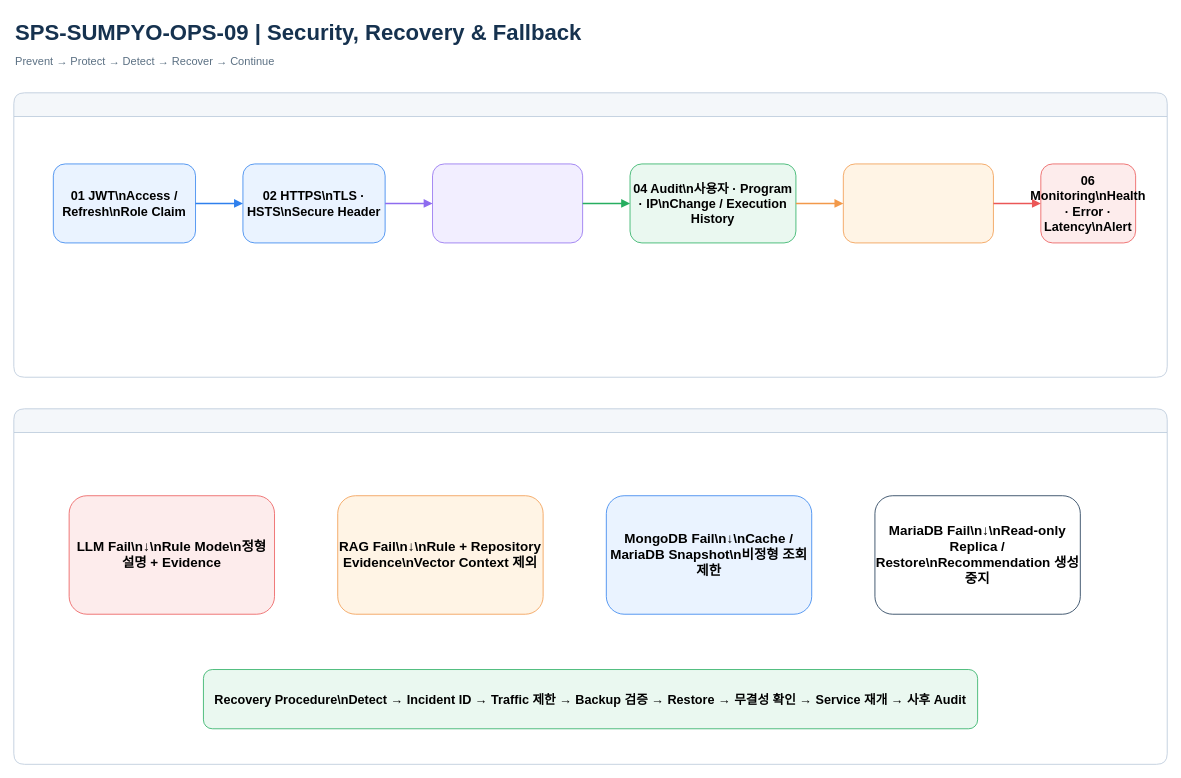
The diagram is 1181 pixels wide and 778 high, and some of its shapes have lost their labels. Each missing label, with the box of its shape:
03 Mask\nPII 분리 · 최소 노출\nLog Redaction: (432, 163, 583, 243)
05 Backup\nMariaDB Full + Binlog\nMongo Snapshot: (843, 163, 993, 243)
RECOVERY & SERVICE CONTINUITY: (13, 408, 1167, 764)
SECURITY CONTROL: (13, 92, 1167, 377)
